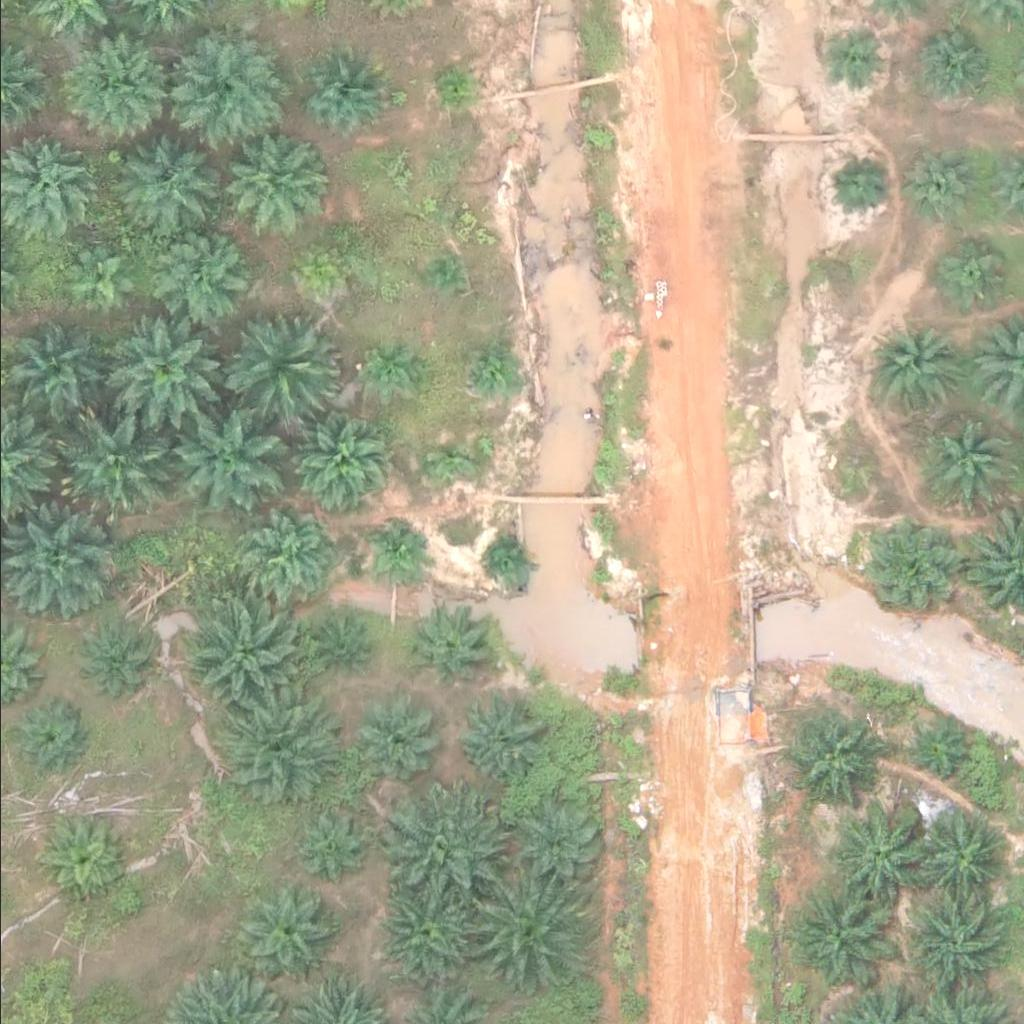Kelapa_Sawit: (213, 694, 327, 807), (191, 599, 304, 712), (167, 398, 280, 511), (227, 307, 340, 420), (95, 312, 208, 425), (780, 880, 893, 993), (171, 28, 285, 140), (464, 876, 577, 988), (385, 786, 498, 898), (50, 409, 163, 521), (378, 882, 479, 982), (511, 788, 612, 888), (216, 135, 317, 235), (59, 33, 160, 133), (897, 891, 998, 991), (906, 806, 1007, 906), (780, 708, 881, 808), (852, 516, 953, 616), (237, 883, 337, 983), (288, 414, 388, 514), (147, 229, 247, 329), (110, 136, 210, 236), (827, 801, 927, 901), (300, 48, 388, 136), (895, 137, 983, 225), (452, 694, 541, 781), (283, 801, 371, 888), (354, 694, 442, 781), (250, 510, 338, 597), (406, 604, 494, 691), (33, 814, 121, 901), (920, 422, 1008, 509), (871, 324, 959, 411), (917, 32, 993, 107), (7, 698, 83, 773), (936, 238, 1011, 313), (82, 622, 157, 697), (65, 241, 140, 316), (894, 714, 969, 789), (822, 21, 885, 84), (826, 154, 889, 216), (374, 526, 425, 576), (485, 533, 535, 583), (316, 624, 366, 674), (422, 436, 472, 486), (468, 344, 518, 394), (365, 339, 415, 389), (419, 253, 457, 291), (435, 67, 473, 104), (301, 243, 338, 280), (384, 156, 410, 181)
